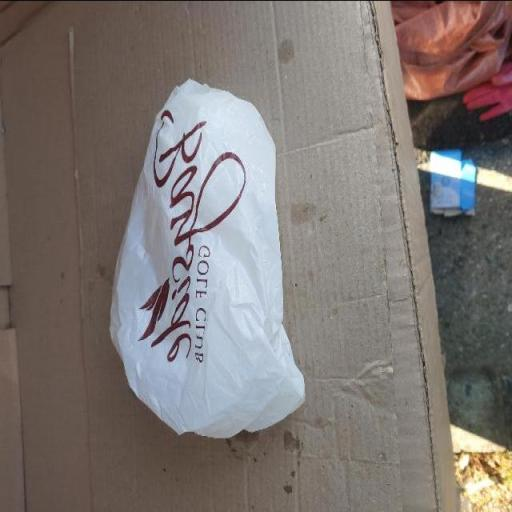plastic-bag: (108, 78, 310, 439)
